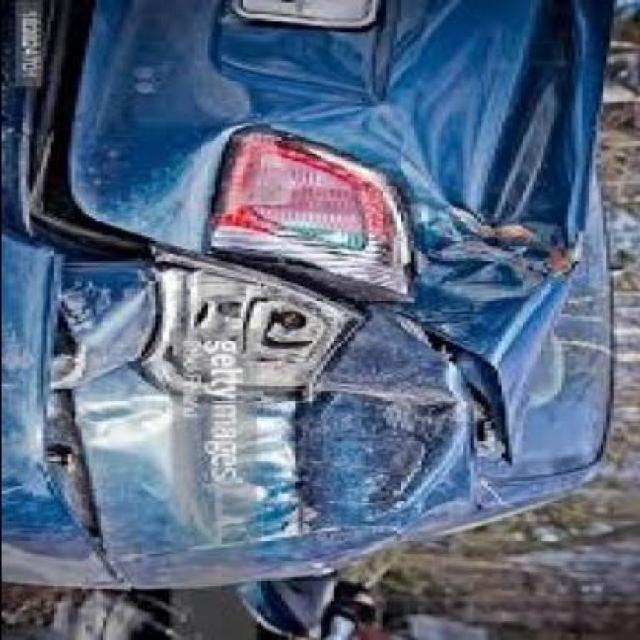damage: (14, 4, 607, 584)
